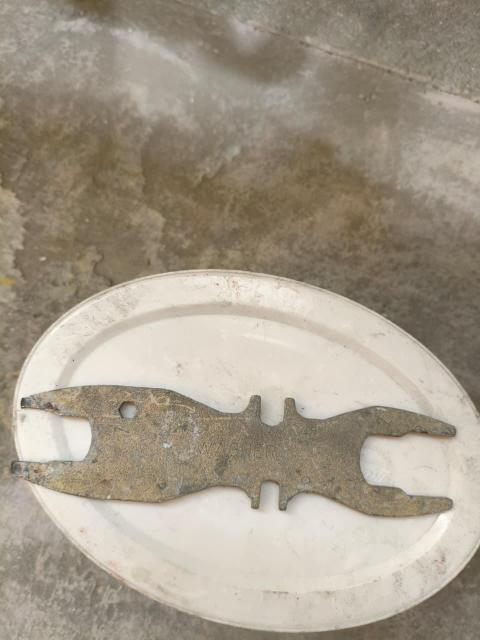Metal: (12, 383, 457, 515)
